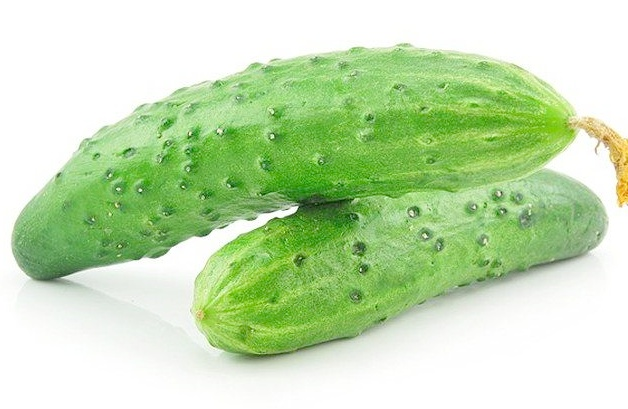cucumber: (21, 36, 580, 277), (210, 173, 603, 347)
